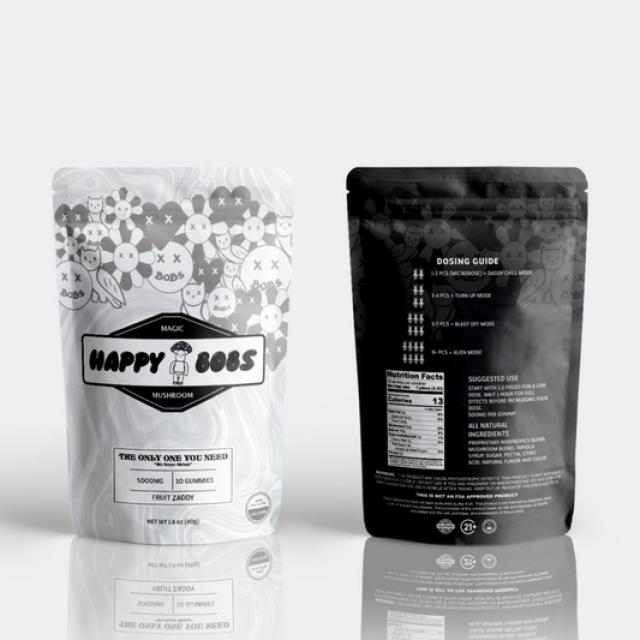Vape-images: (51, 166, 294, 545), (346, 166, 588, 546)
